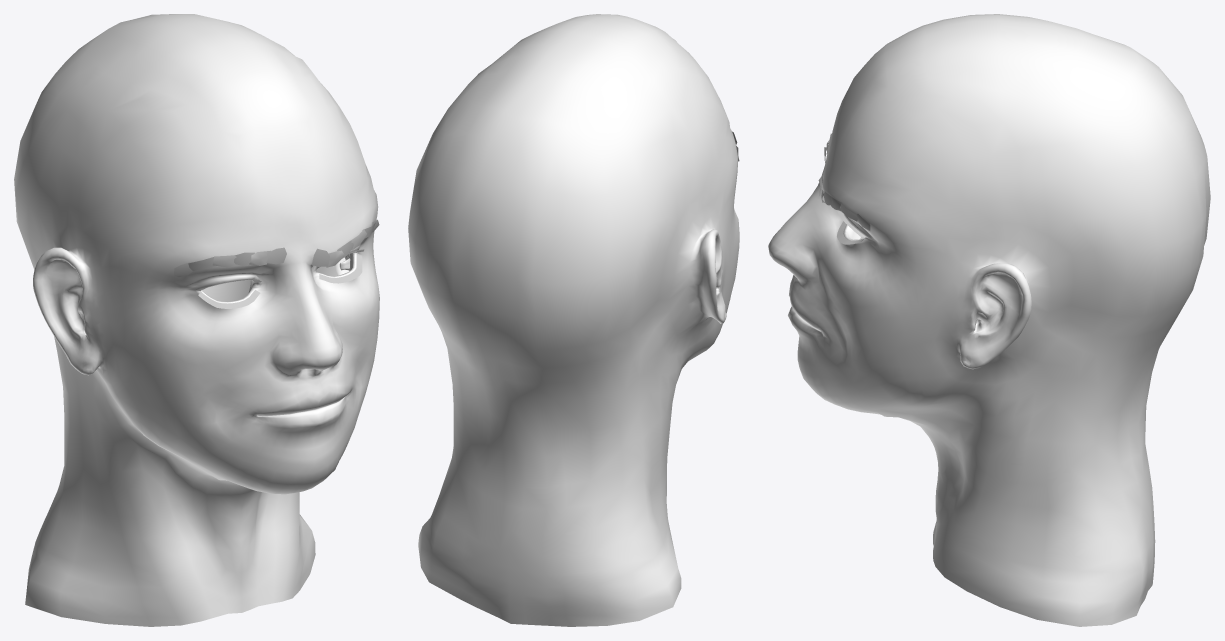
Rendered from browDownLeft.obj.
3 renders of one model, left to right at view 1: azimuth 30°, elevation 25°; view 2: azimuth 150°, elevation 25°; view 3: azimuth 270°, elevation 25°, orthographic. The views are drawn at different scales.
Visible parts, largest first — view 1: FaceMesh_Plane.003; view 2: FaceMesh_Plane.003; view 3: FaceMesh_Plane.003.
Boxes of the visible parts, x1=… form: FaceMesh_Plane.003: x1=14, y1=14, x2=379, y2=626; FaceMesh_Plane.003: x1=408, y1=14, x2=739, y2=626; FaceMesh_Plane.003: x1=768, y1=14, x2=1210, y2=626.
Size of the model in its own units: 1.54 by 2.71 by 1.94.
5 materials, 1 textured.
